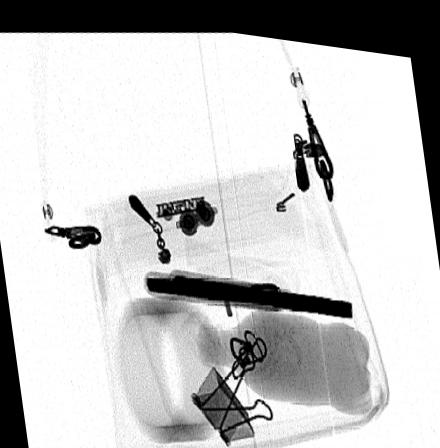Pliers: (143, 267, 352, 310)
